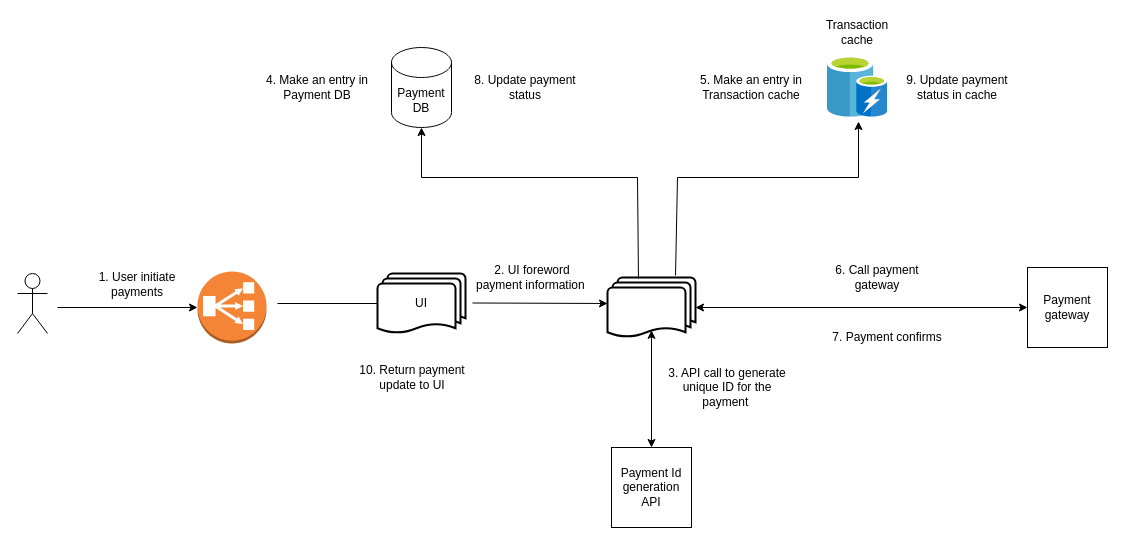
Image size: 1125x545. Some labels were removed from this diagram. Here are the shapes that lost their labels. From the top down, the centre of each, then its label:
At pixel 32 303: "Actor".
At pixel 651 307: "API".
